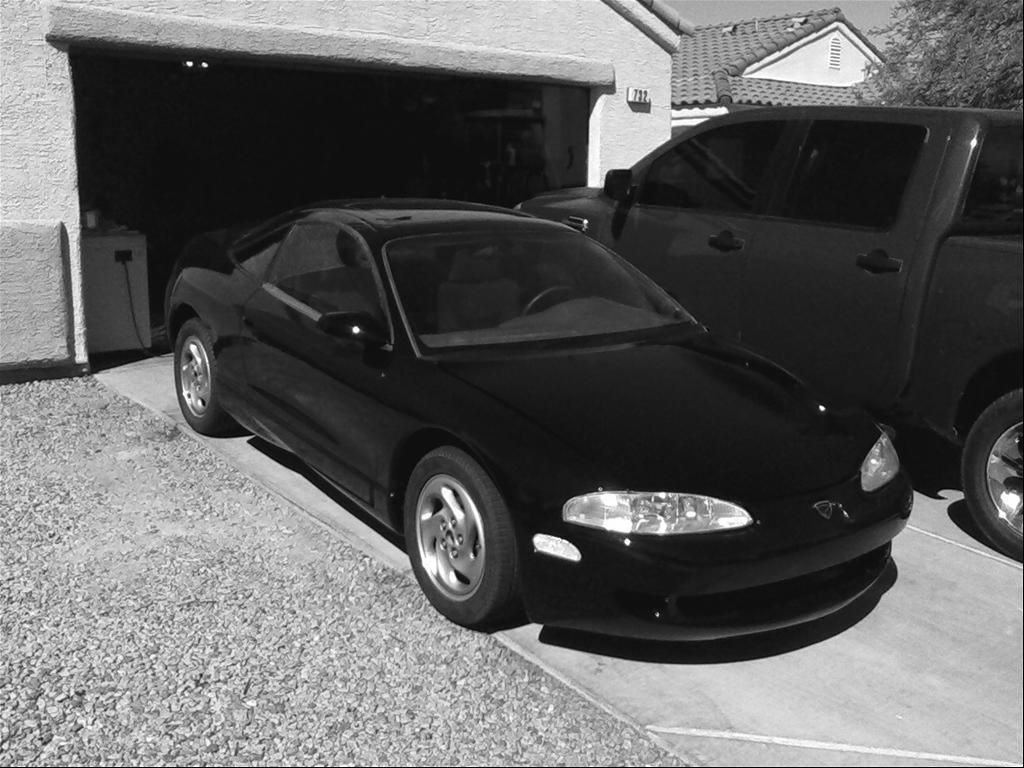car: (168, 203, 915, 642)
